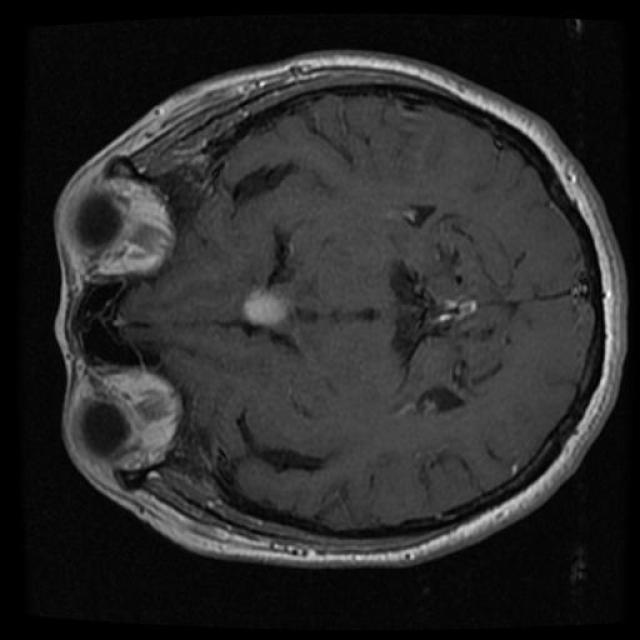Pituitary: (242, 288, 293, 331)
